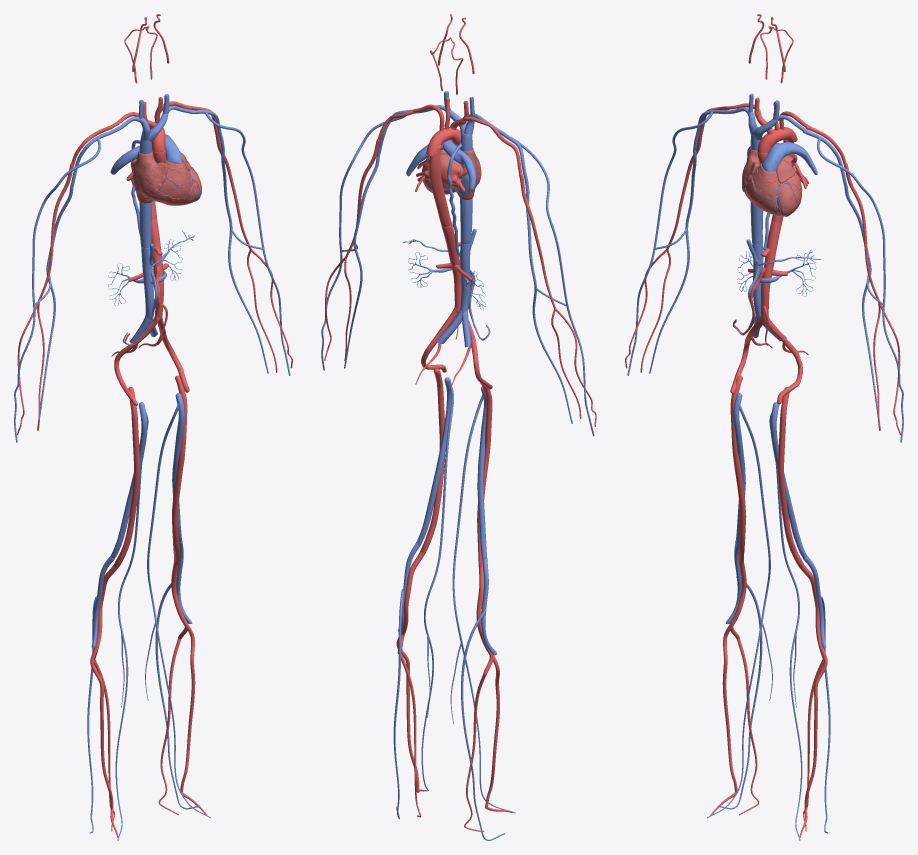
File: cardiovascular.glb
The picture shows the model from 3 angles, left to right: view 1: azimuth 30°, elevation 25°; view 2: azimuth 150°, elevation 25°; view 3: azimuth 330°, elevation 25°; orthographic projection.
Visible parts, largest first — view 1: miocardio-ventricular, pared-auricula-derecha, vena-safena-mayor-i, arteria-femoral-d, vena-safena-mayor-d, arteria-femoral-i, vena-cefalica-d, vena-femoral-d, vena-cefalica-i, vena-femoral-i, vena-basilica-i, arteria-tibial-anterior-i (+8 smaller); view 2: vena-safena-mayor-d, vena-safena-mayor-i, vena-femoral-i, arteria-femoral-i, vena-femoral-d, aorta-toracica, vena-cefalica-d, arteria-femoral-d, vena-cefalica-i, aorta-abdominal, vena-safena-menor-d, vena-basilica-d (+9 smaller); view 3: miocardio-ventricular, vena-safena-mayor-d, arteria-femoral-i, vena-safena-mayor-i, arteria-femoral-d, vena-cefalica-i, aorta-abdominal, vena-femoral-i, vena-cefalica-d, vena-femoral-d, vena-basilica-d, arteria-tibial-anterior-d (+6 smaller).
Part boxes in pixels (<box>): miocardio-ventricular: <box>150,160,201,205</box>; pared-auricula-derecha: <box>132,151,167,203</box>; vena-safena-mayor-i: <box>145,403,210,818</box>; arteria-femoral-d: <box>113,387,140,567</box>; vena-safena-mayor-d: <box>115,412,148,840</box>; arteria-femoral-i: <box>172,375,187,553</box>; vena-cefalica-d: <box>14,137,100,442</box>; vena-femoral-d: <box>110,402,147,558</box>; vena-cefalica-i: <box>204,111,290,375</box>; vena-femoral-i: <box>172,393,184,542</box>; vena-basilica-i: <box>221,150,268,373</box>; arteria-tibial-anterior-i: <box>180,625,195,792</box>; vena-safena-mayor-d: <box>450,395,515,813</box>; vena-safena-mayor-i: <box>421,386,453,791</box>; vena-femoral-i: <box>416,377,451,546</box>; arteria-femoral-i: <box>420,368,445,554</box>; vena-femoral-d: <box>477,387,487,561</box>; aorta-toracica: <box>429,145,451,226</box>; vena-cefalica-d: <box>511,137,594,436</box>; arteria-femoral-d: <box>477,380,492,567</box>; vena-cefalica-i: <box>321,116,405,370</box>; aorta-abdominal: <box>441,224,461,312</box>; vena-safena-menor-d: <box>461,609,505,840</box>; vena-basilica-d: <box>526,192,572,423</box>; miocardio-ventricular: <box>744,163,801,216</box>; vena-safena-mayor-d: <box>707,403,772,818</box>; arteria-femoral-i: <box>777,387,803,568</box>; vena-safena-mayor-i: <box>769,413,802,840</box>; arteria-femoral-d: <box>730,375,746,553</box>; vena-cefalica-i: <box>817,137,903,442</box>; aorta-abdominal: <box>761,221,781,322</box>; vena-femoral-i: <box>770,402,807,558</box>; vena-cefalica-d: <box>627,111,713,375</box>; vena-femoral-d: <box>733,393,745,544</box>; vena-basilica-d: <box>649,150,696,373</box>; arteria-tibial-anterior-d: <box>722,625,737,792</box>.
Bounding box in the file's own units: 0.559 × 1.58 × 0.1656.
